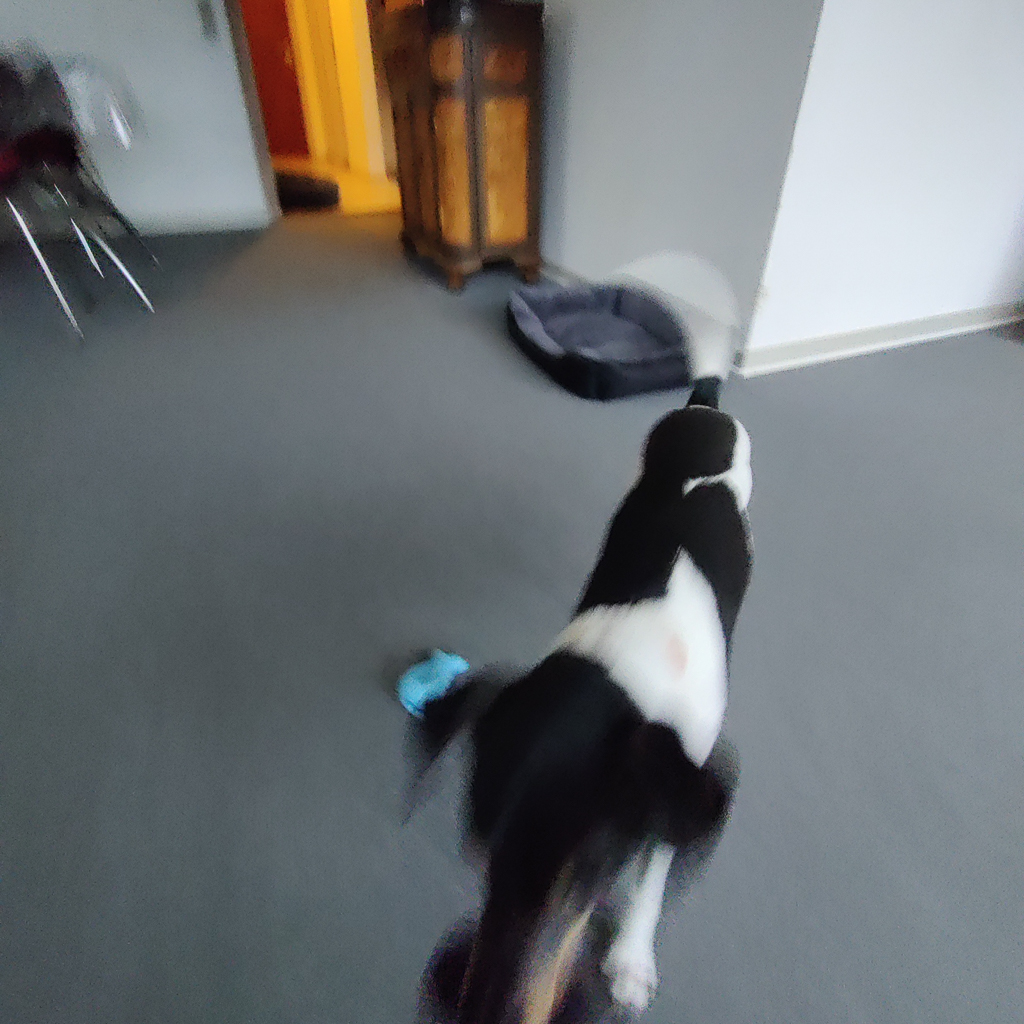Dog: (352, 240, 826, 1024)
